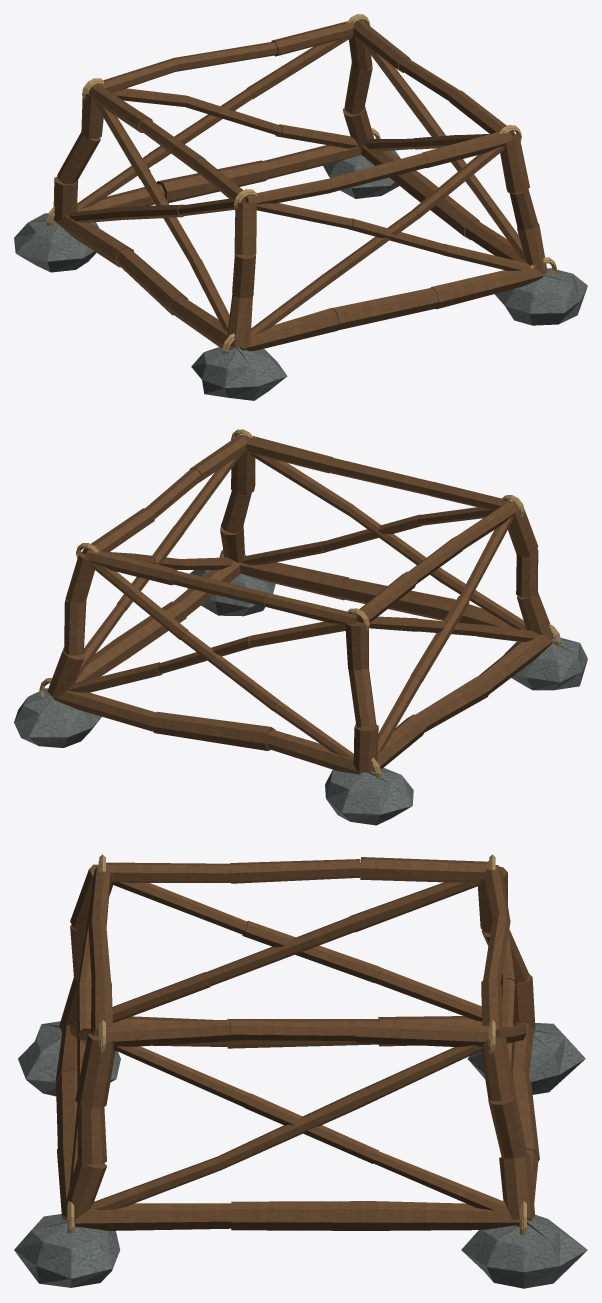
Rendered from cs-011_signal_beacon_base.obj.
3 views of the same model, one above another, from view 1: azimuth 30°, elevation 25°; view 2: azimuth 150°, elevation 25°; view 3: azimuth 270°, elevation 25° (orthographic). The views are drawn at different scales.
Parts seen in each view (by area): view 1: cs-011_signal_beacon_base; view 2: cs-011_signal_beacon_base; view 3: cs-011_signal_beacon_base.
Part boxes in pixels (box(x1,y1,x2,y2)): cs-011_signal_beacon_base: box(14, 14, 587, 400); cs-011_signal_beacon_base: box(14, 429, 587, 825); cs-011_signal_beacon_base: box(14, 854, 587, 1288).
Bounding box in the file's own units: 1.46 × 0.6772 × 1.42.
3 materials, 3 textured.
